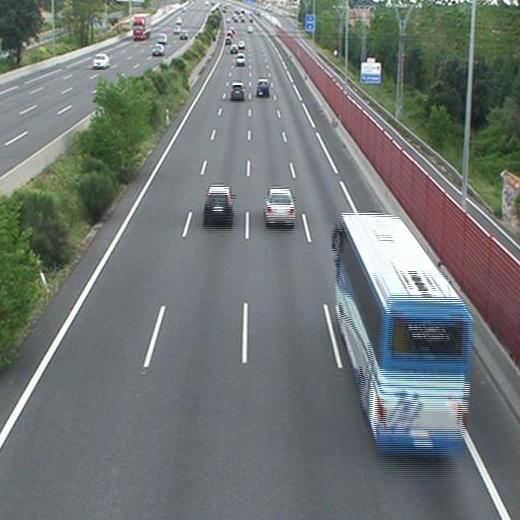bus: (334, 214, 469, 454)
car: (264, 188, 295, 223), (204, 187, 234, 221), (231, 83, 244, 100), (257, 79, 269, 95), (235, 53, 244, 64), (229, 43, 237, 52), (237, 40, 245, 48)
